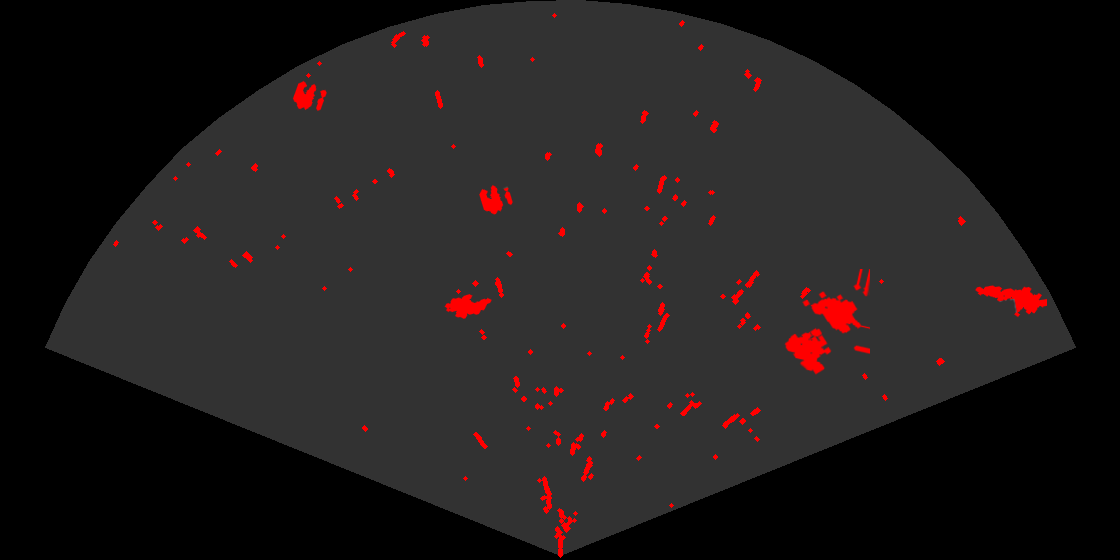AUV: (443, 293, 493, 320)
ball: (291, 79, 328, 112), (478, 184, 514, 216)
cage: (783, 269, 870, 376)
frogman: (974, 284, 1047, 319)
